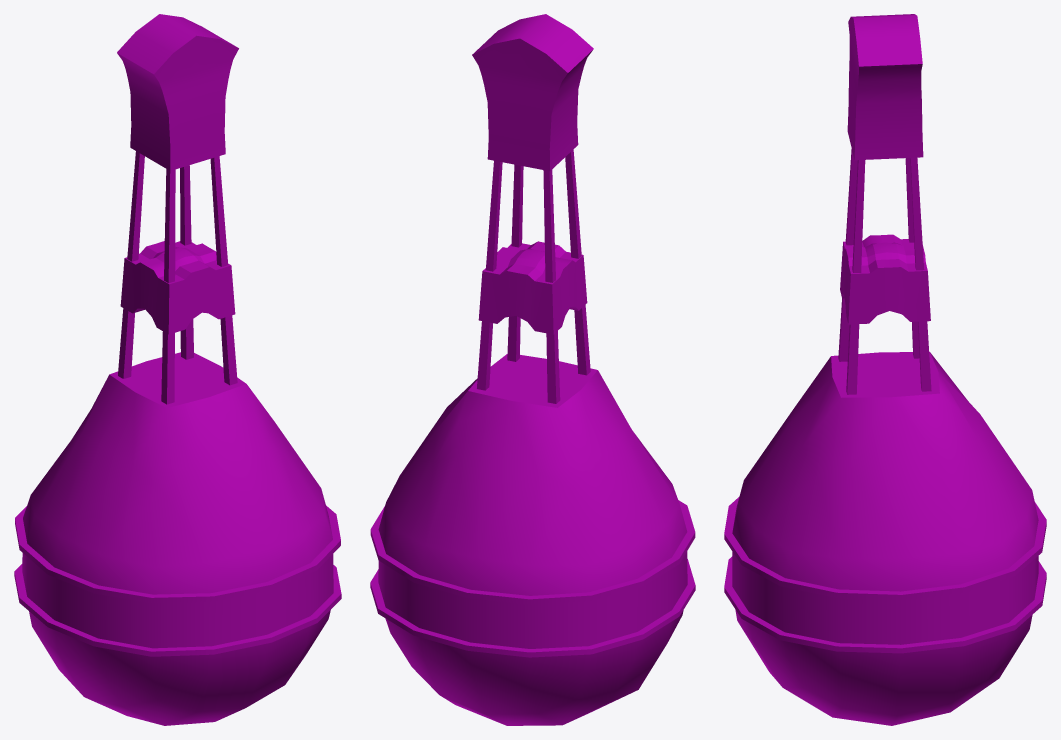
The model's file is Buoy.fbx.
3 views of the same model, side by side, from view 1: azimuth 30°, elevation 25°; view 2: azimuth 150°, elevation 25°; view 3: azimuth 270°, elevation 25° (orthographic).
Visible parts, largest first — view 1: Buoy; view 2: Buoy; view 3: Buoy.
Boxes of the visible parts, bbox=[...] form: Buoy: bbox=[14, 14, 341, 725]; Buoy: bbox=[370, 14, 695, 725]; Buoy: bbox=[724, 14, 1046, 725].
Size of the model in its own units: 7.27 by 17.2 by 7.27.
